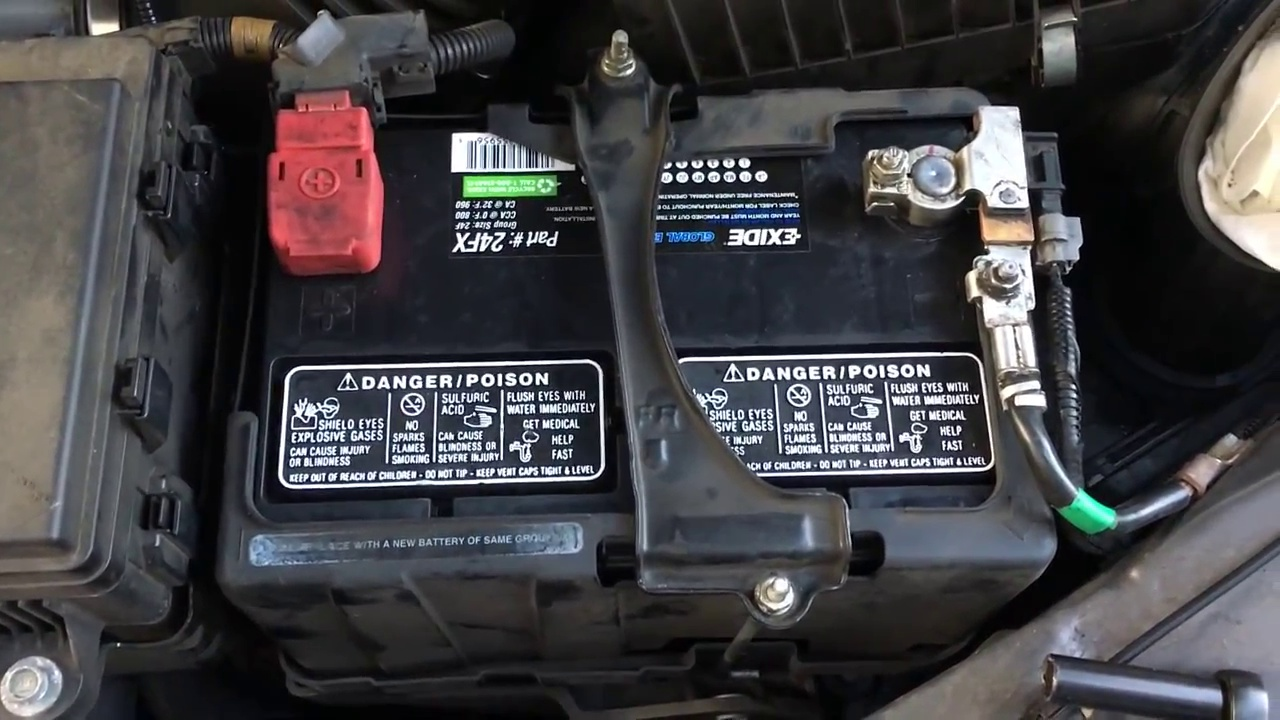battery: (254, 81, 1024, 527)
neg_connected: (828, 106, 1027, 245)
pos_connected: (214, 48, 418, 299)
